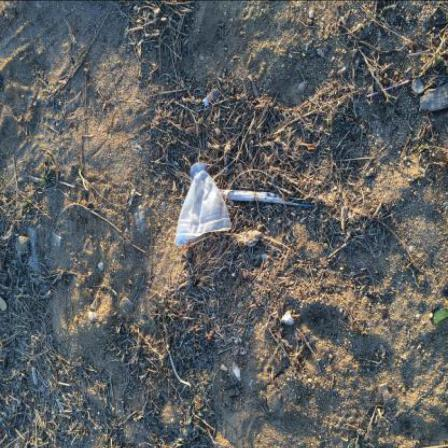Bottle: (176, 163, 233, 247)
Cigarette: (204, 88, 217, 108)
Other plastic: (368, 81, 410, 98)
Unlabeled litter: (220, 190, 315, 207), (421, 83, 448, 113), (434, 308, 448, 325)
